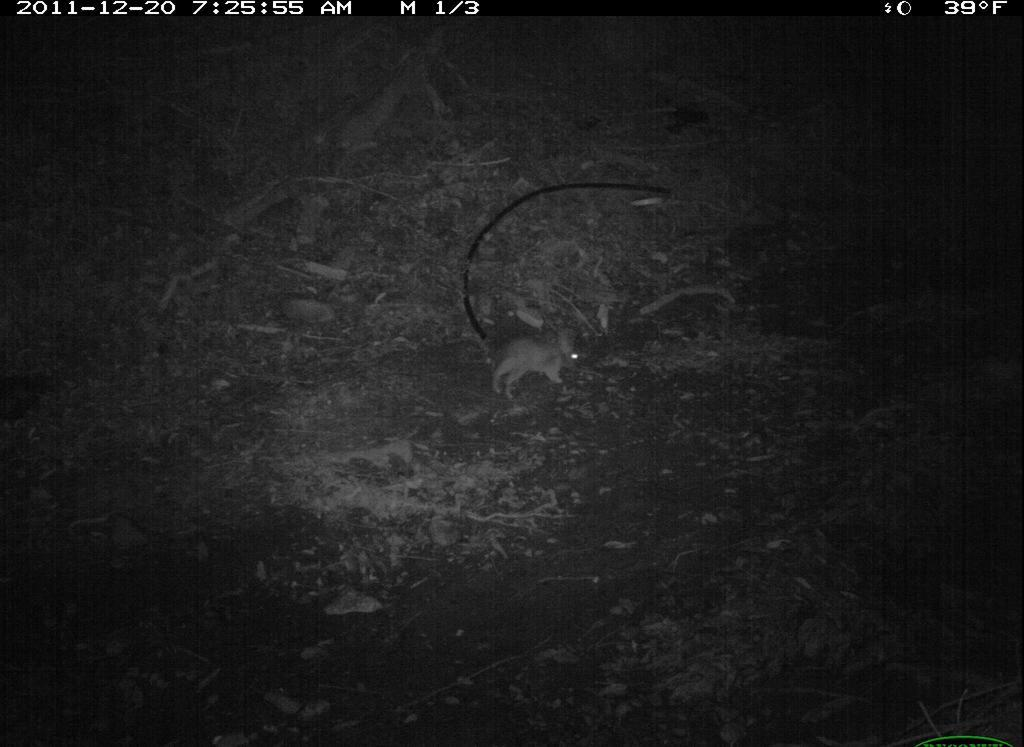rabbit: (483, 323, 592, 401)
